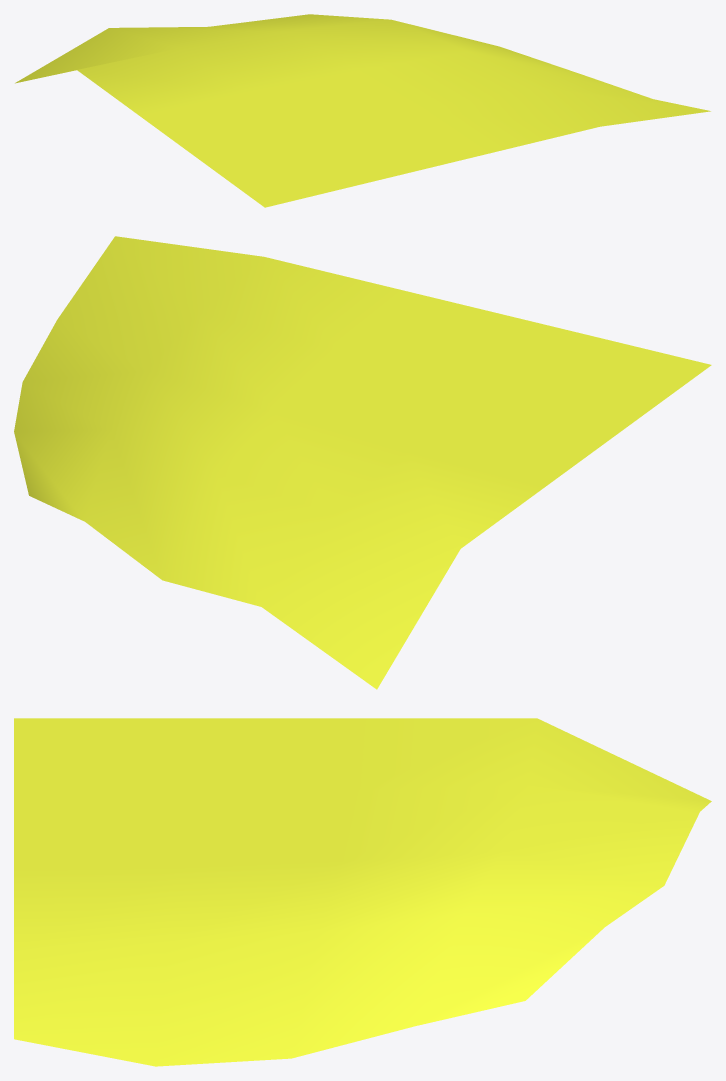
File: Queso.glb
The picture shows the model from 3 angles, top to bottom: view 1: azimuth 30°, elevation 25°; view 2: azimuth 150°, elevation 25°; view 3: azimuth 270°, elevation 25°; orthographic projection. The views are drawn at different scales.
Parts seen in each view (by area): view 1: Queso; view 2: Queso; view 3: Queso.
Part boxes in pixels (box(x1,y1,x2,y2)): Queso: box(15, 14, 710, 207); Queso: box(14, 236, 711, 689); Queso: box(14, 718, 711, 1066).
Bounding box in the file's own units: 1.13 × 0.1433 × 1.09.
